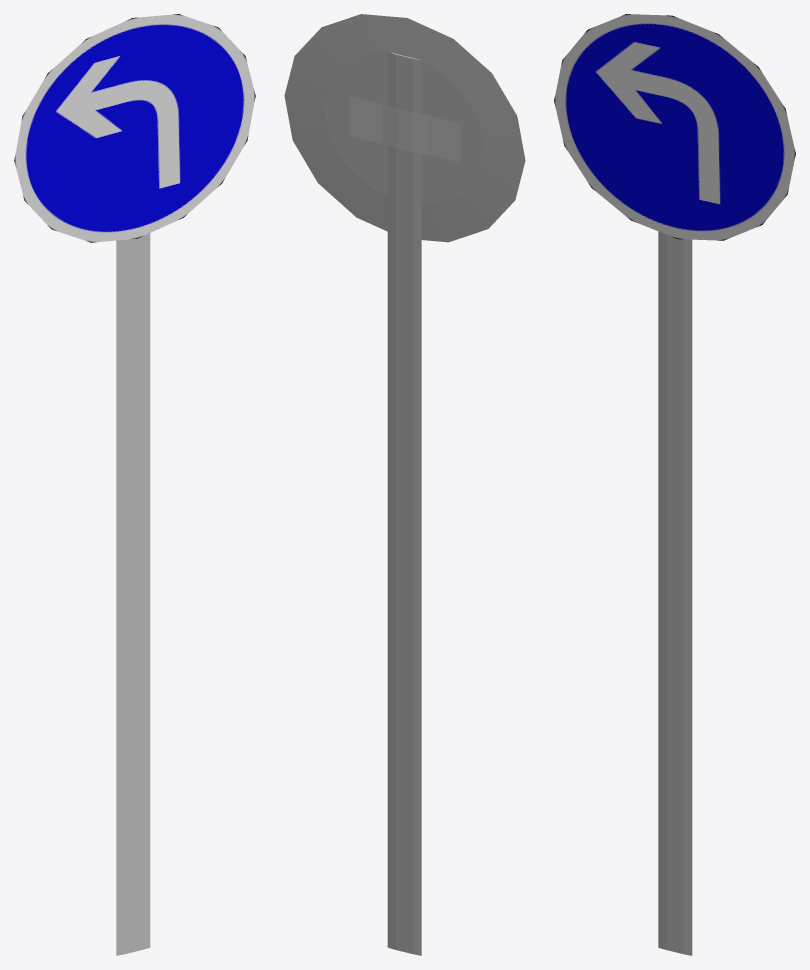
The model's file is soladonus.dae.
3 views of the same model, side by side, from view 1: azimuth 30°, elevation 25°; view 2: azimuth 150°, elevation 25°; view 3: azimuth 330°, elevation 25° (orthographic).
Parts seen in each view (by area): view 1: Sign_Circle.005; view 2: Sign_Circle.005; view 3: Sign_Circle.005.
Boxes of the visible parts, x1,y1,x2,y2 form: Sign_Circle.005: (14,14,255,955); Sign_Circle.005: (284,14,525,955); Sign_Circle.005: (554,14,795,955).
Size of the model in its own units: 0.6353 by 0.00621 by 2.35.
3 materials, 1 textured.
